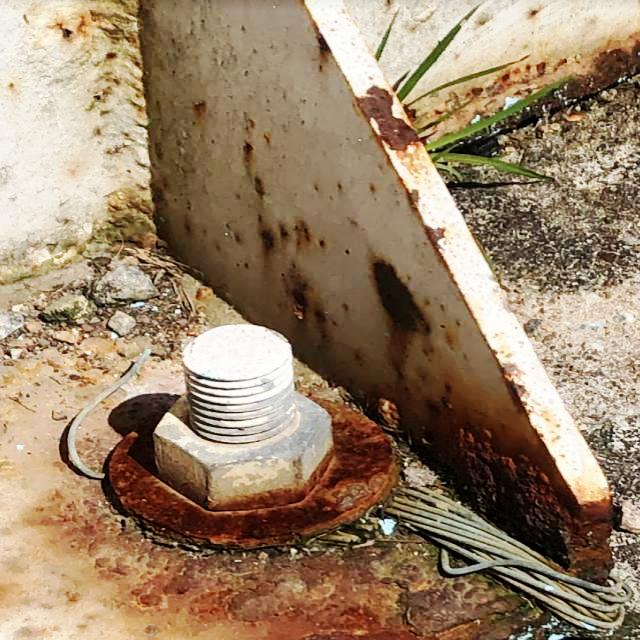Corrosion: (40, 378, 612, 640), (406, 26, 640, 148), (81, 179, 179, 256), (392, 173, 460, 277), (367, 252, 437, 342), (349, 77, 423, 155), (83, 49, 151, 122), (488, 346, 545, 421), (282, 263, 332, 345), (19, 7, 104, 54), (255, 215, 316, 254), (237, 137, 264, 162), (190, 97, 211, 123), (521, 5, 551, 22), (4, 76, 20, 93)
